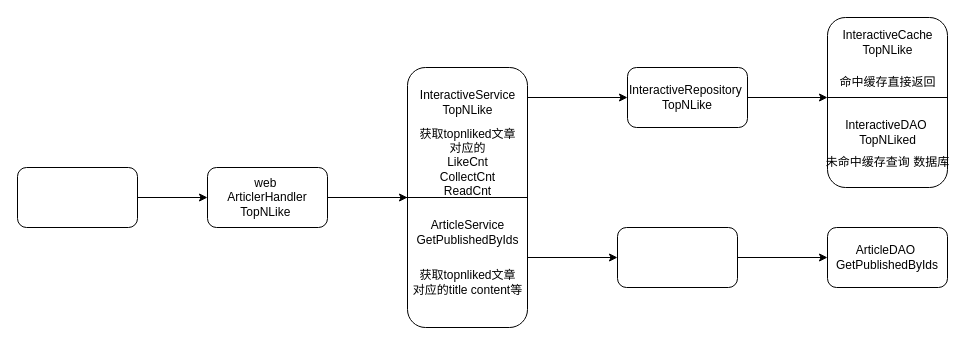
Image size: 980x345. Some labels were removed from this diagram. Here are the shapes that lost their labels. From the top down, the centre of each, then its label:
At pixel 77 197: "http topnliked post request".
At pixel 677 257: "ArticleRepository GetPublishedByIds".
